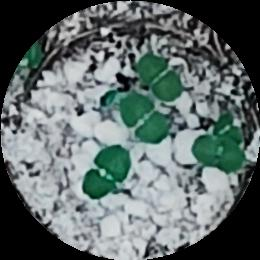Basil: (83, 142, 129, 201), (123, 97, 168, 146), (138, 54, 183, 101), (194, 137, 244, 173), (217, 119, 246, 144)
